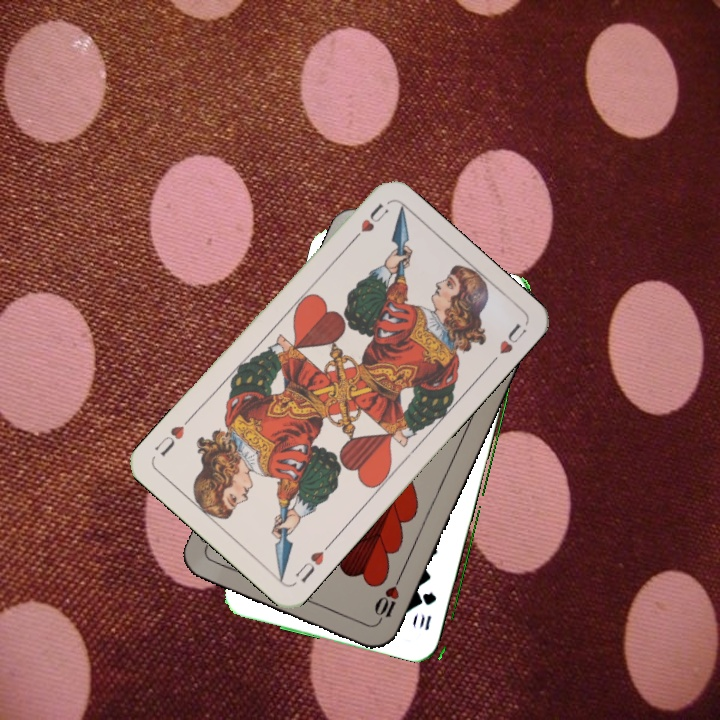G10: (415, 588, 439, 633)
H10: (370, 573, 404, 628)
HU: (345, 199, 391, 247), (290, 538, 334, 586)
